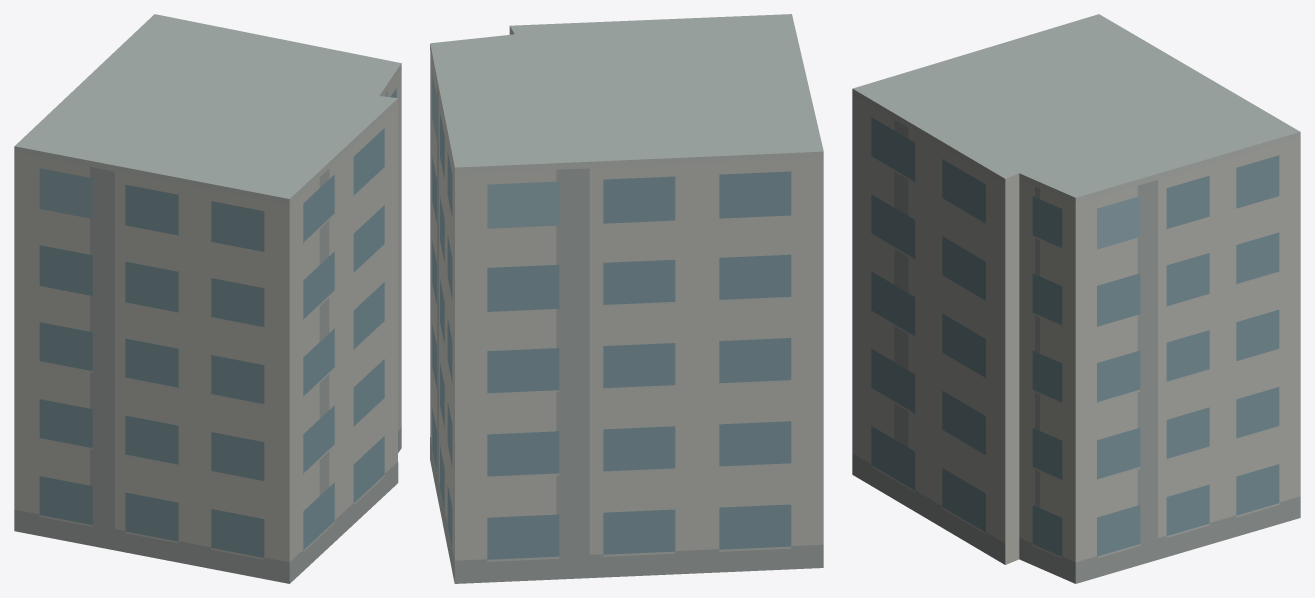
The model's file is residential-f2b861d2-7e41-4a6b-8bc2-64623acb5687.glb.
The picture shows the model from 3 angles, left to right: view 1: azimuth 30°, elevation 25°; view 2: azimuth 150°, elevation 25°; view 3: azimuth 270°, elevation 25°; orthographic projection. The views are drawn at different scales.
Parts seen in each view (by area): view 1: residential-f2b861d2-7e41-4a6b-8bc2-64623acb5687.tmp; view 2: residential-f2b861d2-7e41-4a6b-8bc2-64623acb5687.tmp; view 3: residential-f2b861d2-7e41-4a6b-8bc2-64623acb5687.tmp.
Boxes of the visible parts, x1=… form: residential-f2b861d2-7e41-4a6b-8bc2-64623acb5687.tmp: x1=14, y1=14, x2=401, y2=583; residential-f2b861d2-7e41-4a6b-8bc2-64623acb5687.tmp: x1=430, y1=14, x2=823, y2=583; residential-f2b861d2-7e41-4a6b-8bc2-64623acb5687.tmp: x1=852, y1=14, x2=1300, y2=583.
Bounding box in the file's own units: 15.58 × 15.25 × 16.05.
